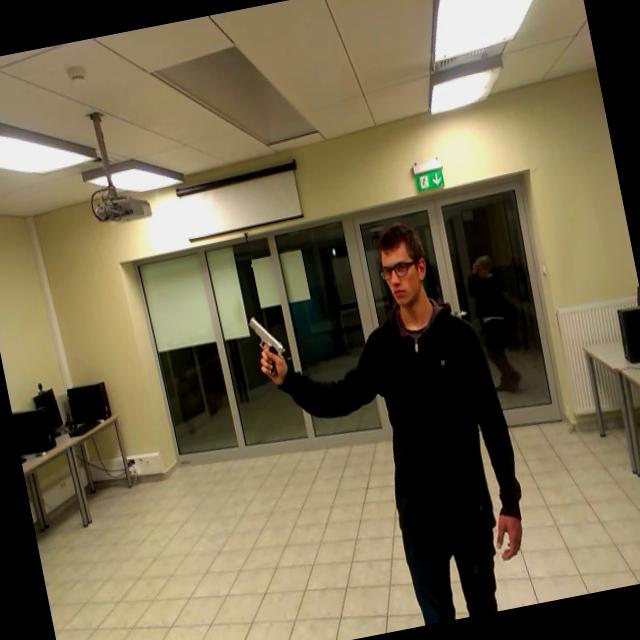handgun: (232, 304, 294, 397)
